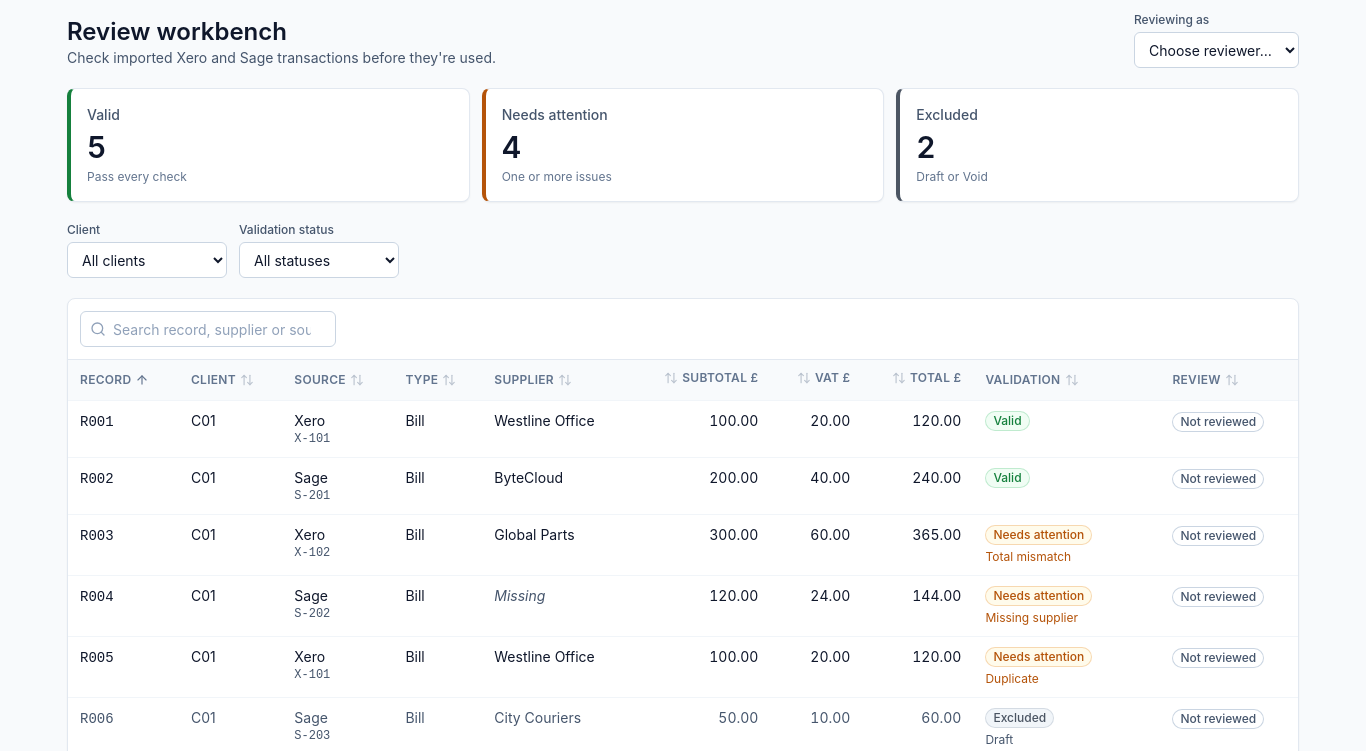
Workbench › records table › selects a record by click or keyboard
This screenshot has width=1366, height=751.
Later steps or results of the test are not shown.
Expected: the text "R001" is shown, [80,414,114,430]
Click the text "Global Parts".
click(556, 544)  # box [482,514,630,575]
(page scrolled)
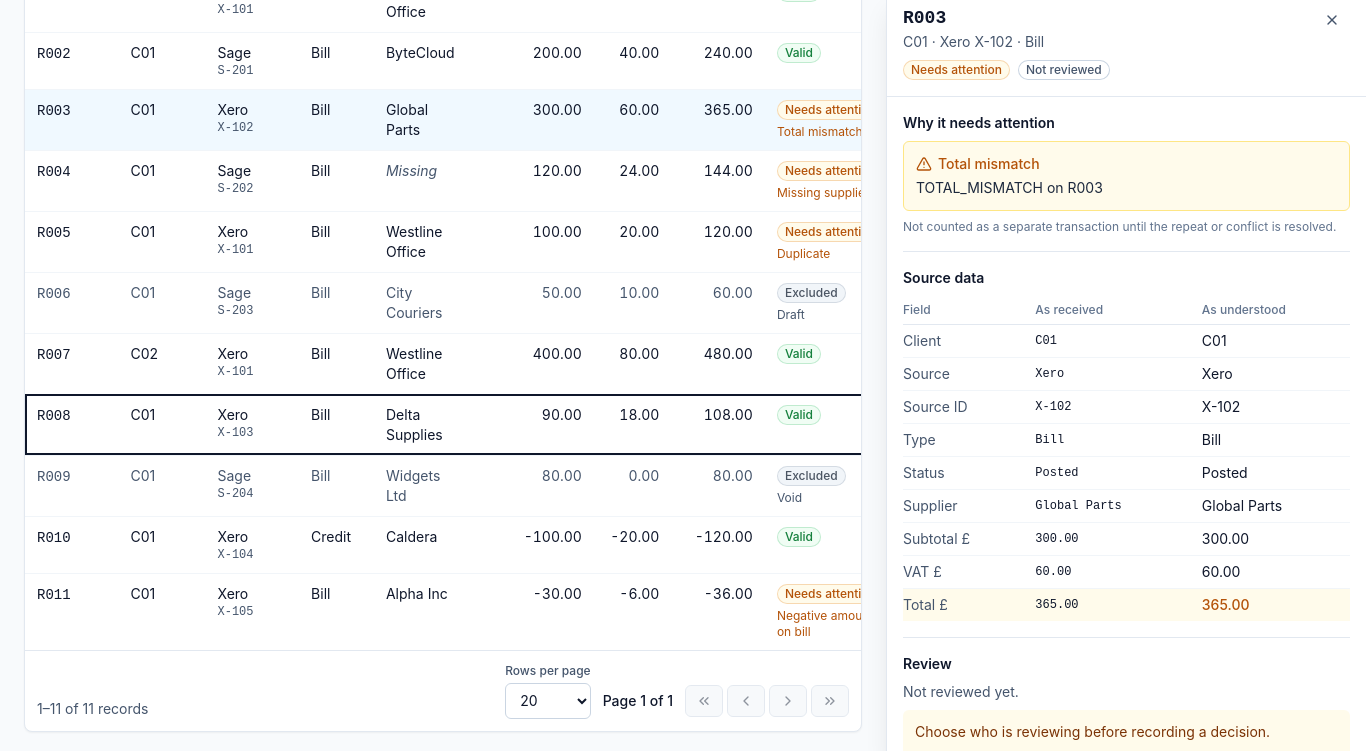
Result: the row that starts with "R003" is selected at [25,89,861,150]
